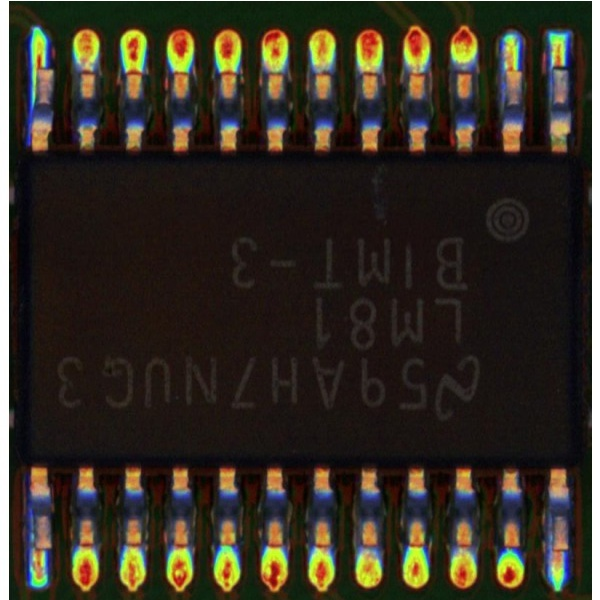Bad_podu: (79, 53, 93, 85), (35, 539, 47, 565), (551, 539, 565, 560), (552, 47, 562, 76), (505, 55, 516, 77), (37, 59, 46, 75)
Bad_qiaojiao: (32, 69, 38, 108)
